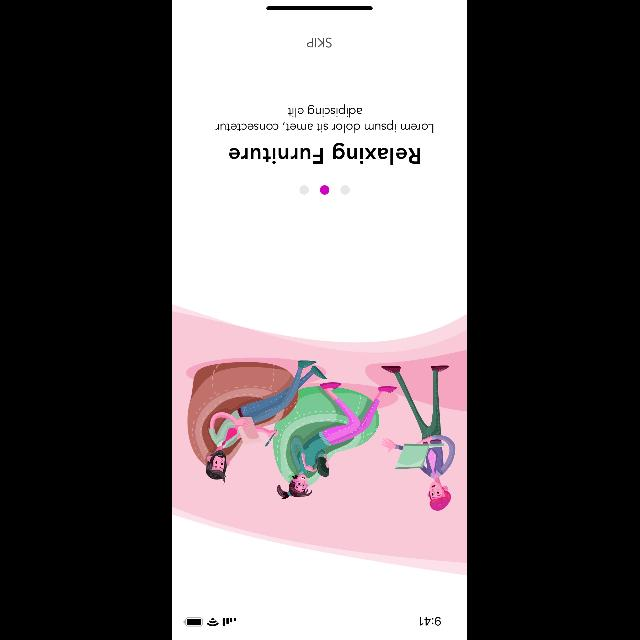image: (186, 357, 457, 511)
pageindicator: (300, 186, 350, 194)
text: (216, 105, 434, 134), (229, 143, 421, 165), (308, 38, 332, 48)
uppertaskbar: (184, 616, 442, 626)
